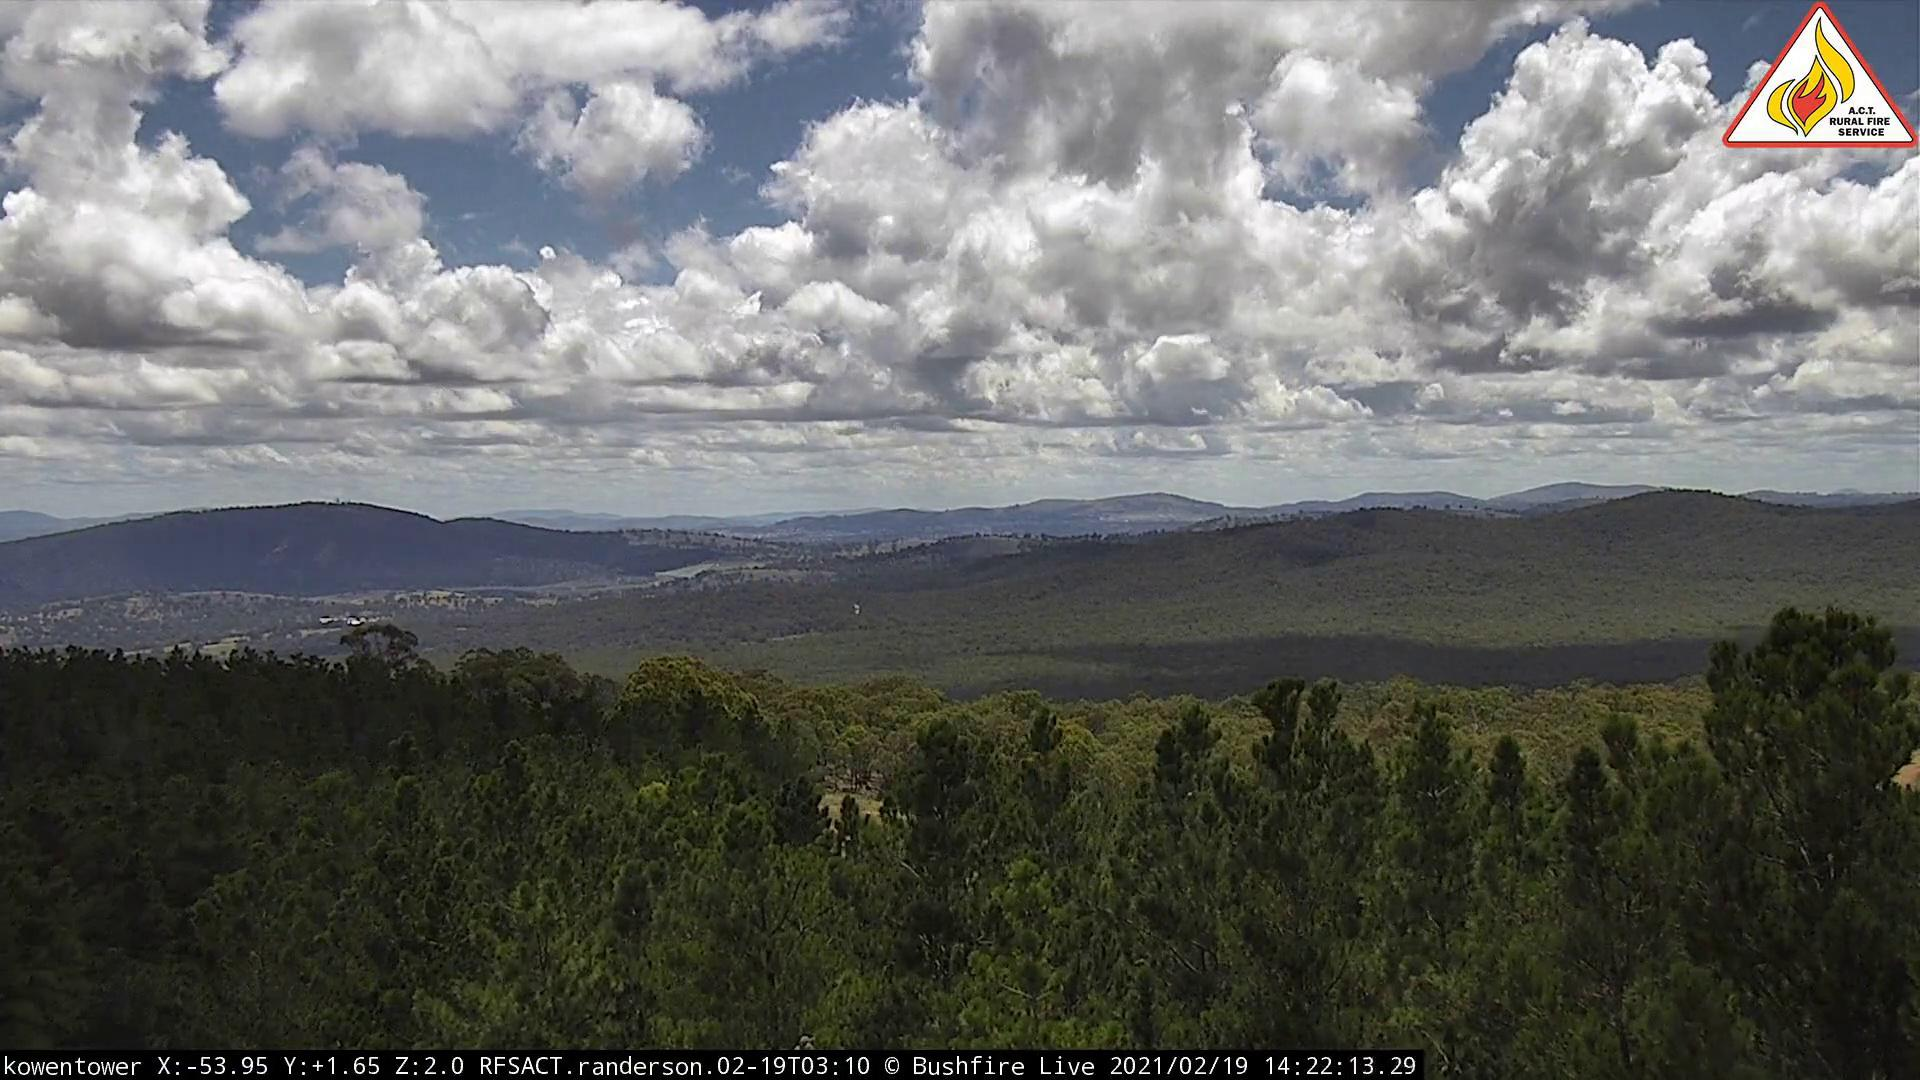Smoke: (965, 520, 1004, 547)
